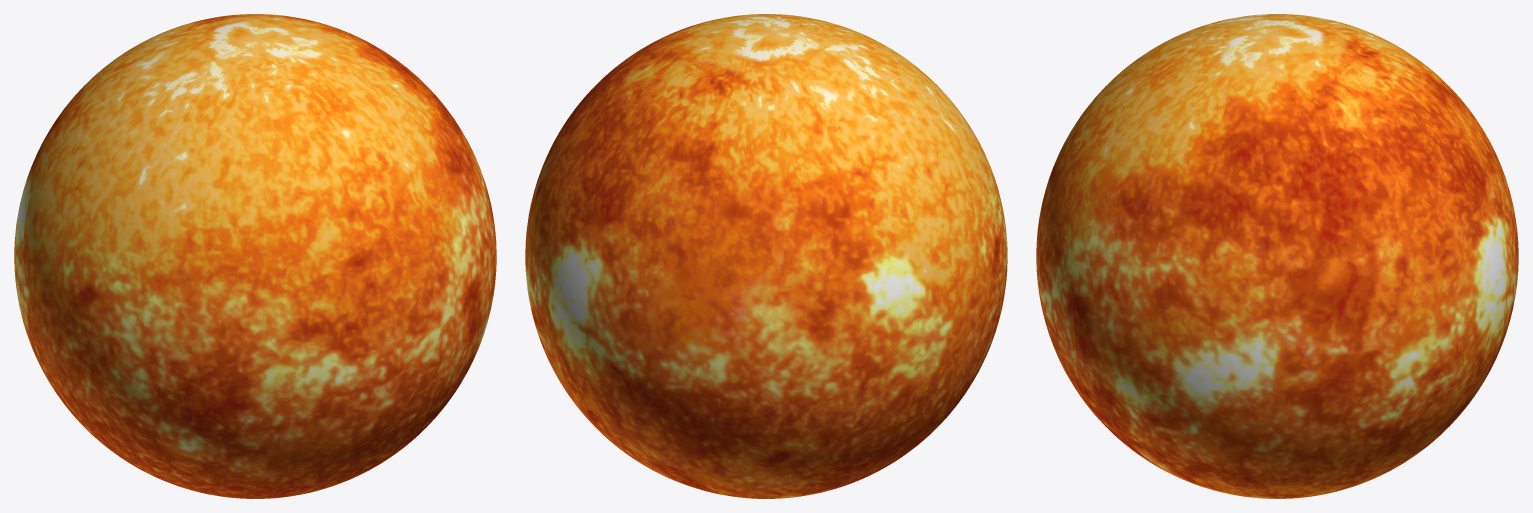
File: sun.glb
3 renders of one model, left to right at view 1: azimuth 30°, elevation 25°; view 2: azimuth 150°, elevation 25°; view 3: azimuth 270°, elevation 25°, orthographic.
Parts seen in each view (by area): view 1: Sun; view 2: Sun; view 3: Sun.
Part boxes in pixels (x1,y1,x2,y2): Sun: (14,14,496,498); Sun: (525,14,1007,498); Sun: (1036,14,1518,498).
Size of the model in its own units: 0.4936 by 0.4988 by 0.4936.
Materials: 1 (1 with a texture image).
